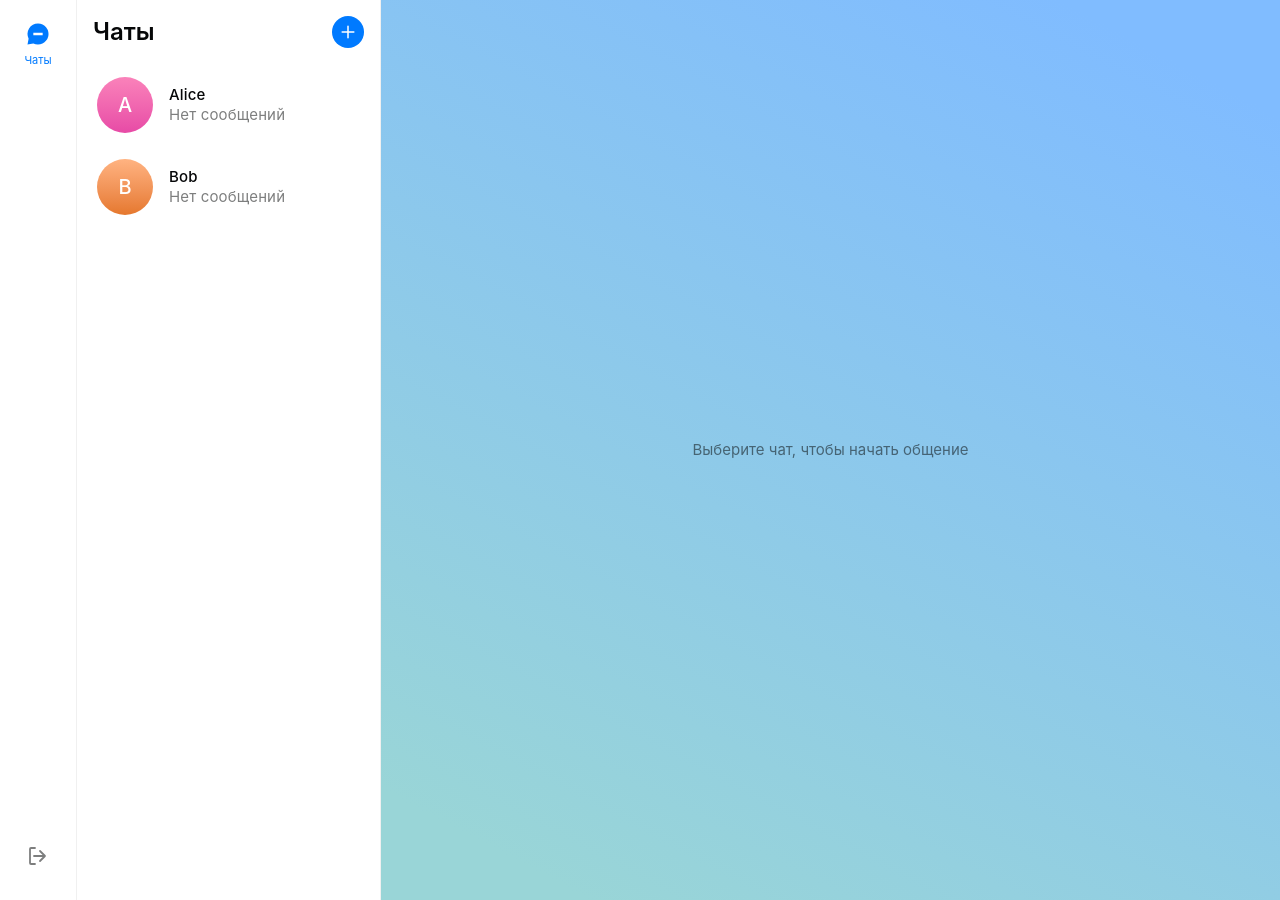
Scenario: a failure that arrives after a chat switch stays with the chat it was sent to
Click the button "A Alice Нет сообщений".
click(228, 105)  # box [77,64,380,146]
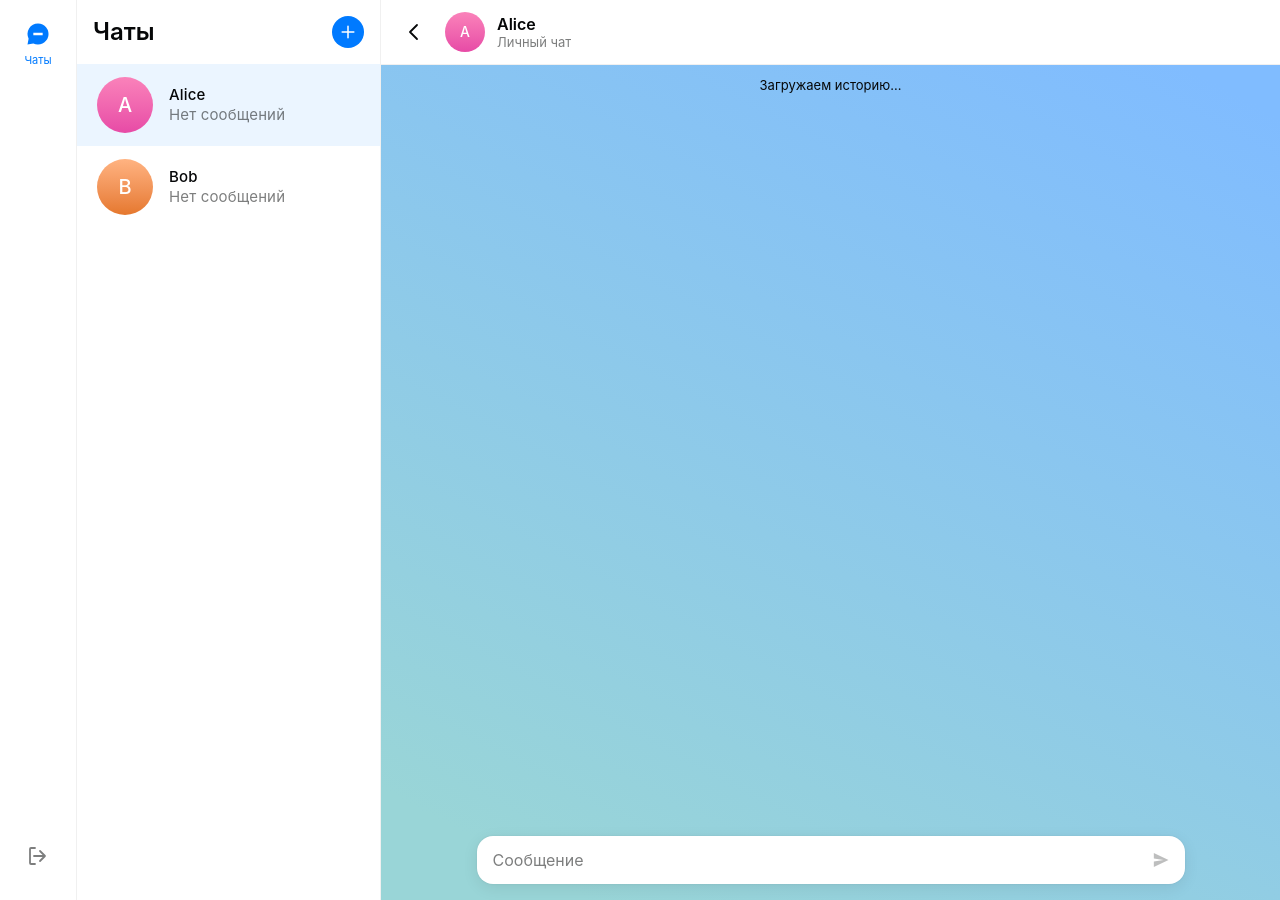
Type "hello" into the text box labelled "Сообщение".
click(808, 860); type("hello")  # box [480,840,1136,880]
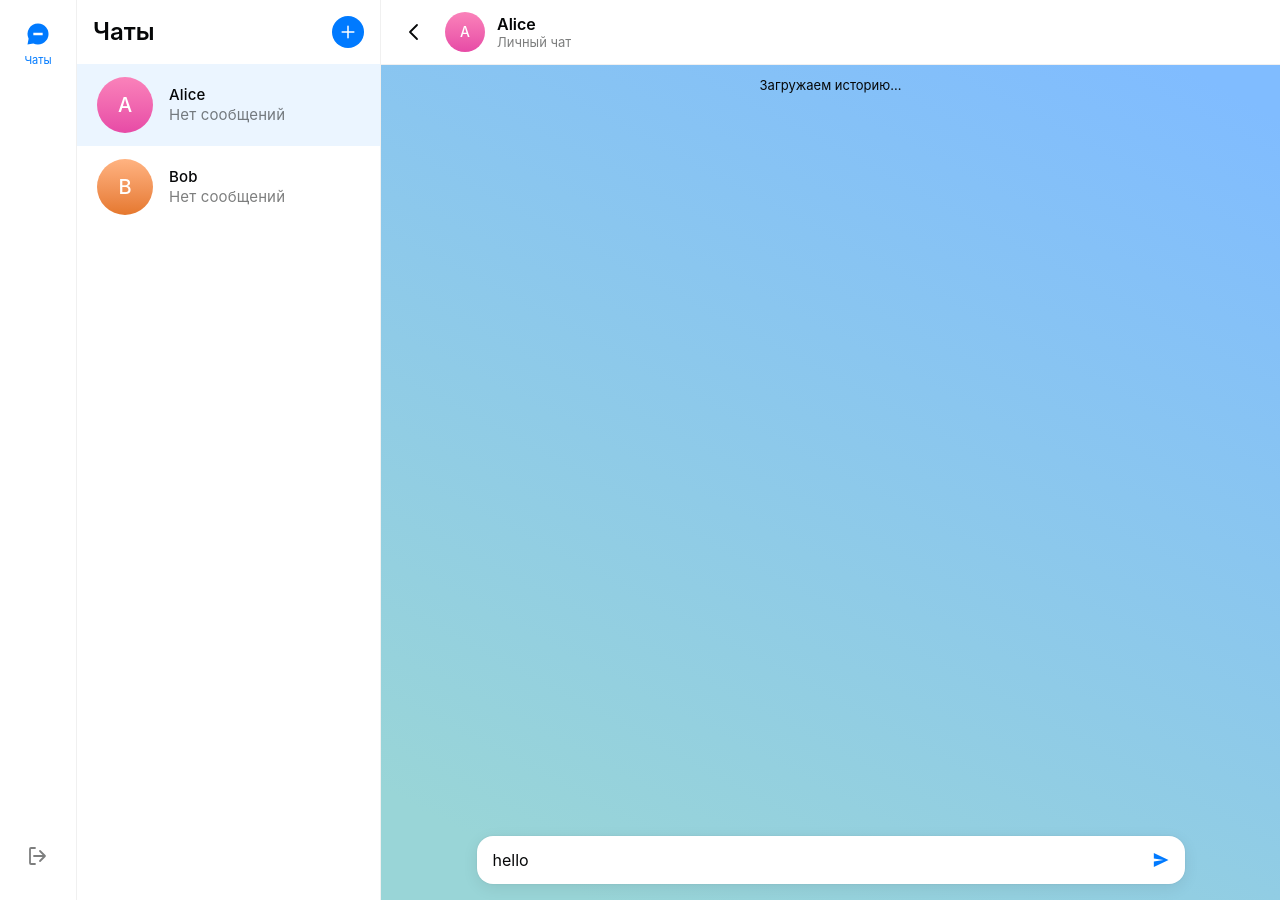
Click the button named "Отправить сообщение".
click(1160, 860)  # box [1140,840,1180,880]
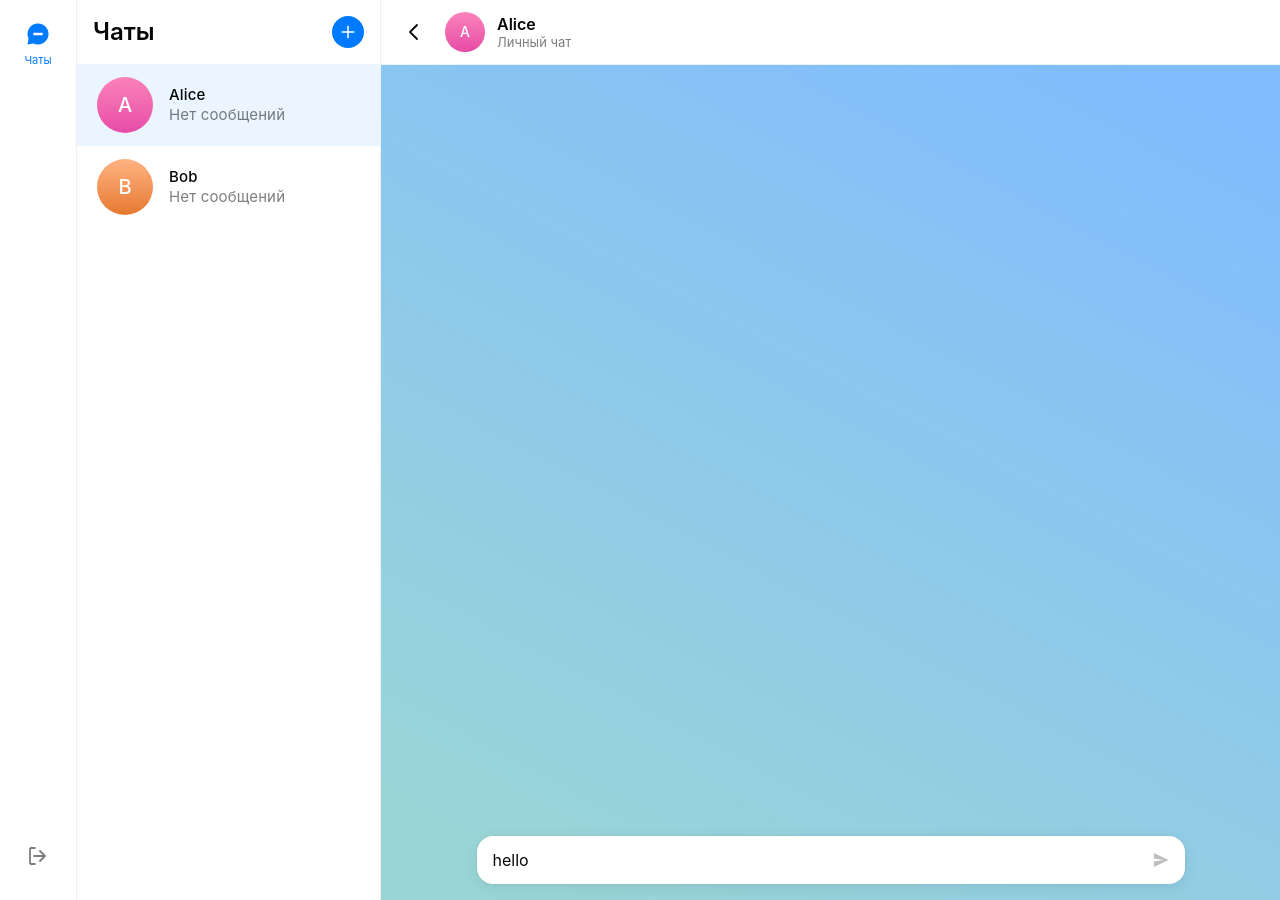
Click the button "B Bob Нет сообщений".
click(228, 187)  # box [77,146,380,228]
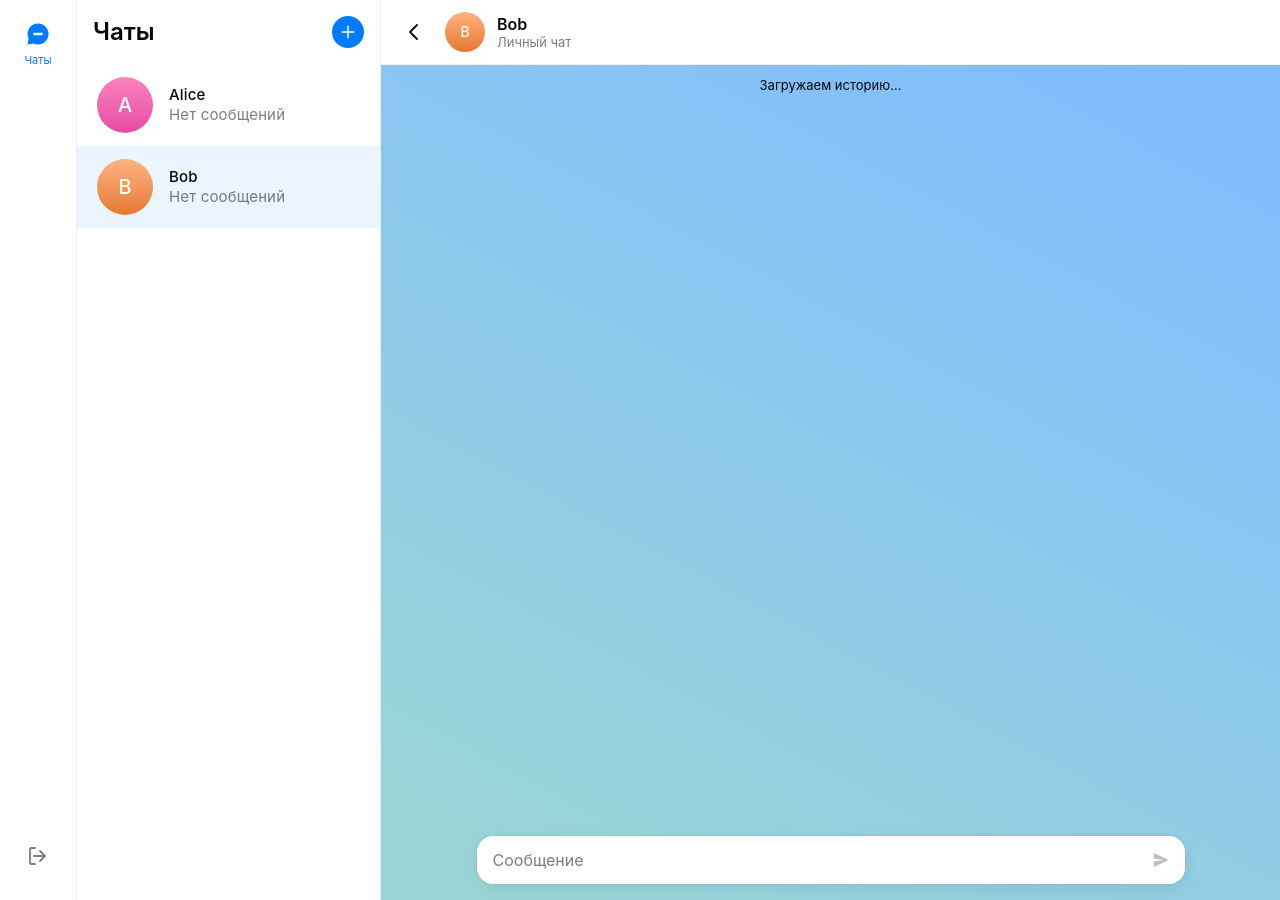
Type "for Bob" into the text box labelled "Сообщение".
click(808, 860); type("for Bob")  # box [480,840,1136,880]
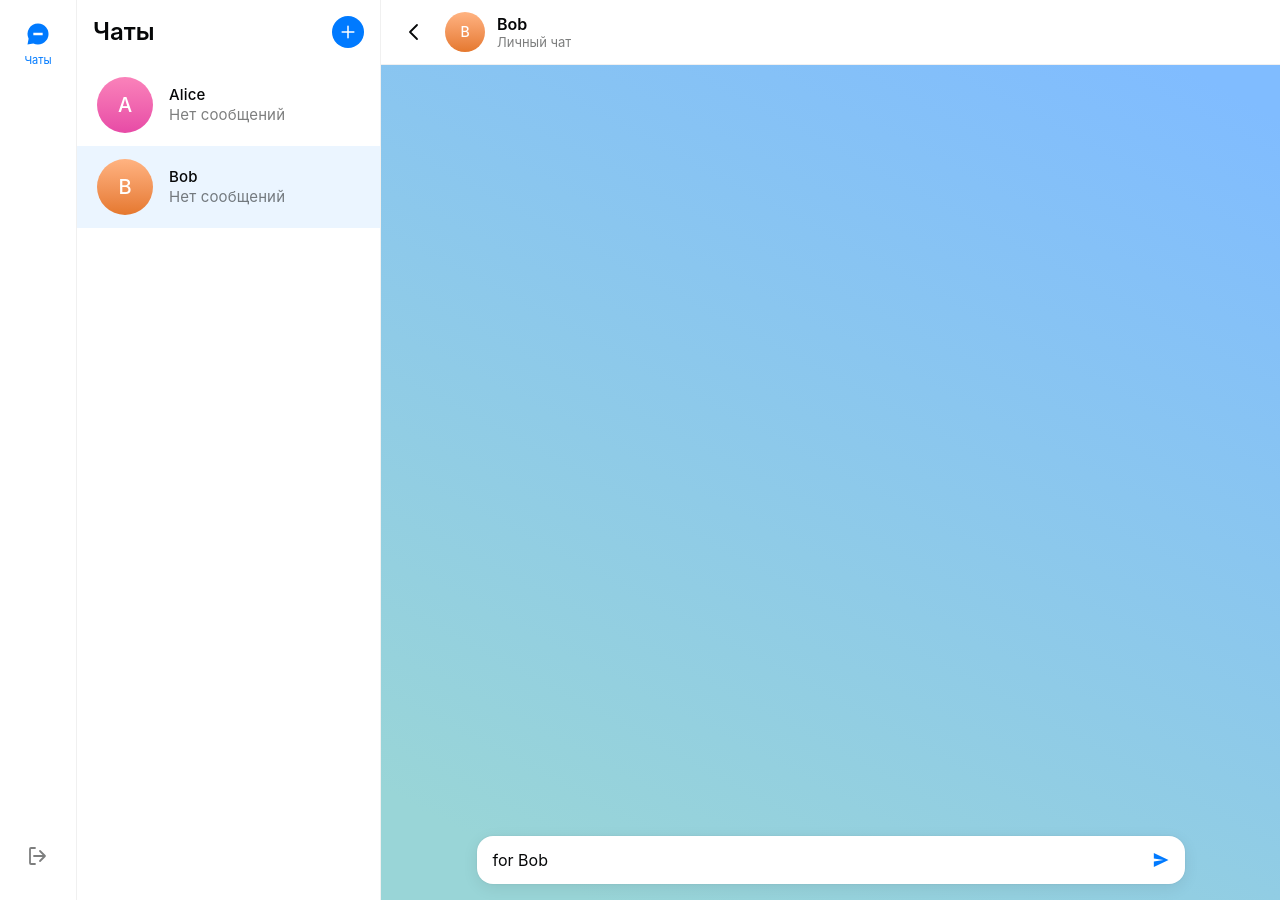
Expected: the button named "Отправить сообщение" is enabled, [1140,840,1180,880]
Expected: the message "Загружаем историю…" is gone
Click the button "A Alice Нет сообщений".
click(228, 105)  # box [77,64,380,146]
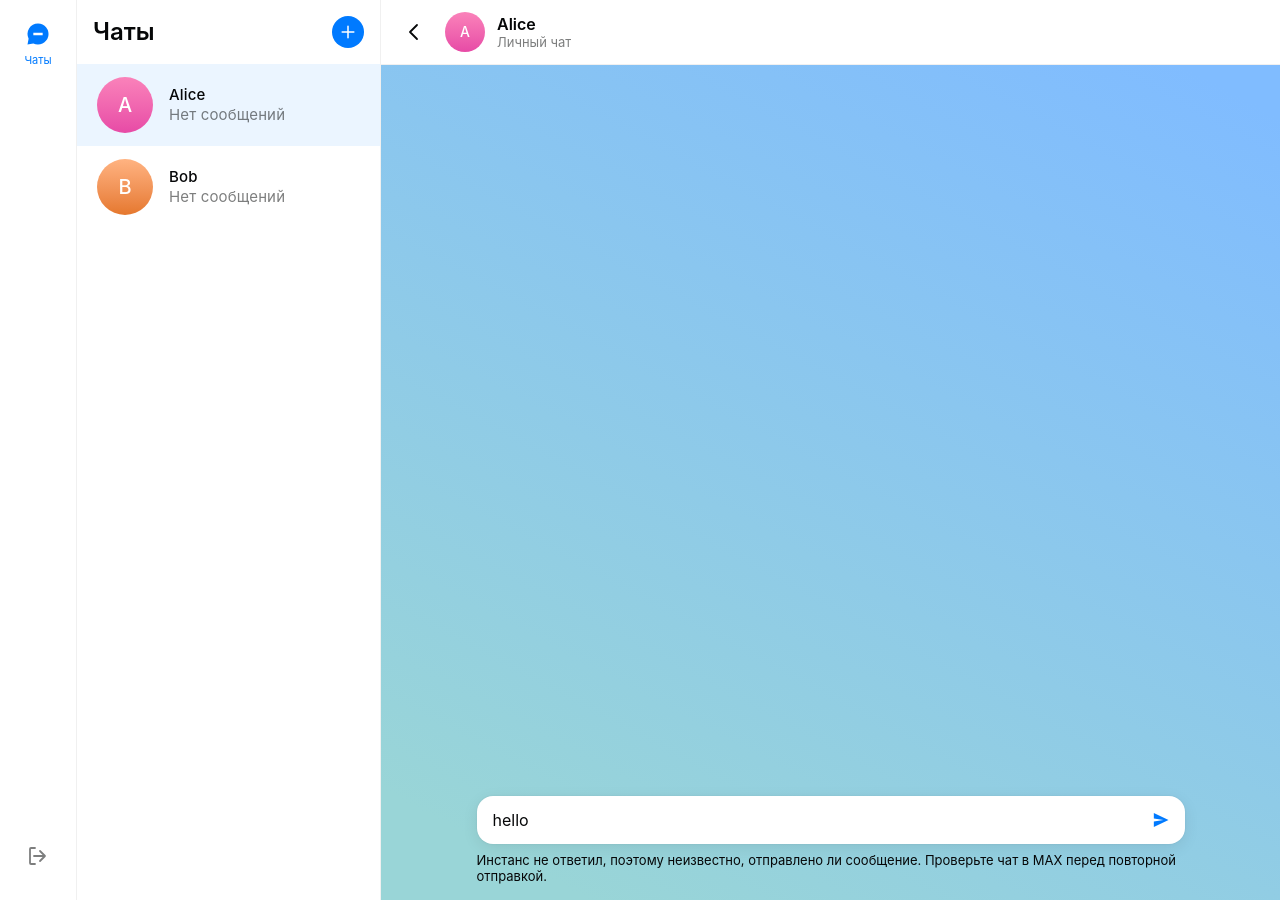
Expected: the message shows "неизвестно, отправлено ли сообщение", [476,852,1176,884]
